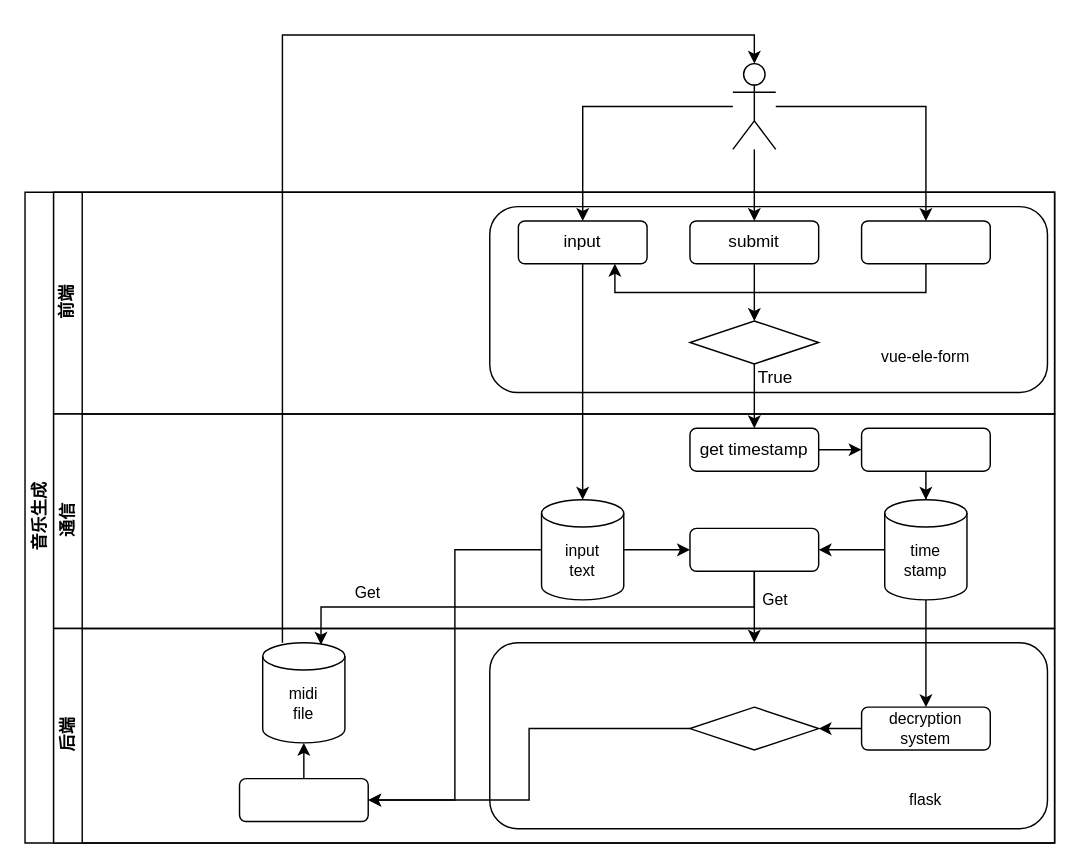
Some shapes in this 1080 by 868 pixel diagram are drawn without their labels. Each missing label, with the centre of its shape:
"axios" goes at (754,549).
"encryption system" goes at (925,449).
"inference" goes at (303,799).
"remove non-Chinese" goes at (925,242).
"rules" goes at (754,342).
"verify" goes at (754,728).
